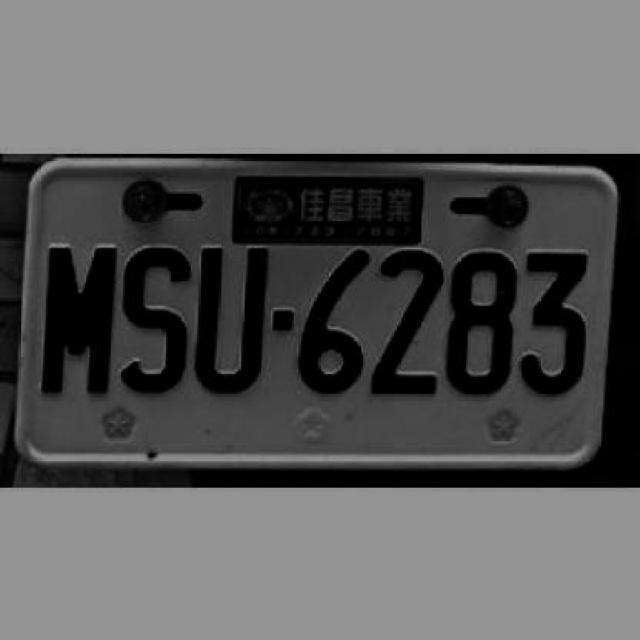-: (271, 306, 295, 334)
2: (371, 243, 444, 397)
3: (517, 245, 588, 396)
6: (294, 241, 371, 397)
8: (444, 245, 518, 396)
M: (37, 237, 120, 400)
S: (120, 237, 191, 398)
U: (194, 240, 269, 398)
